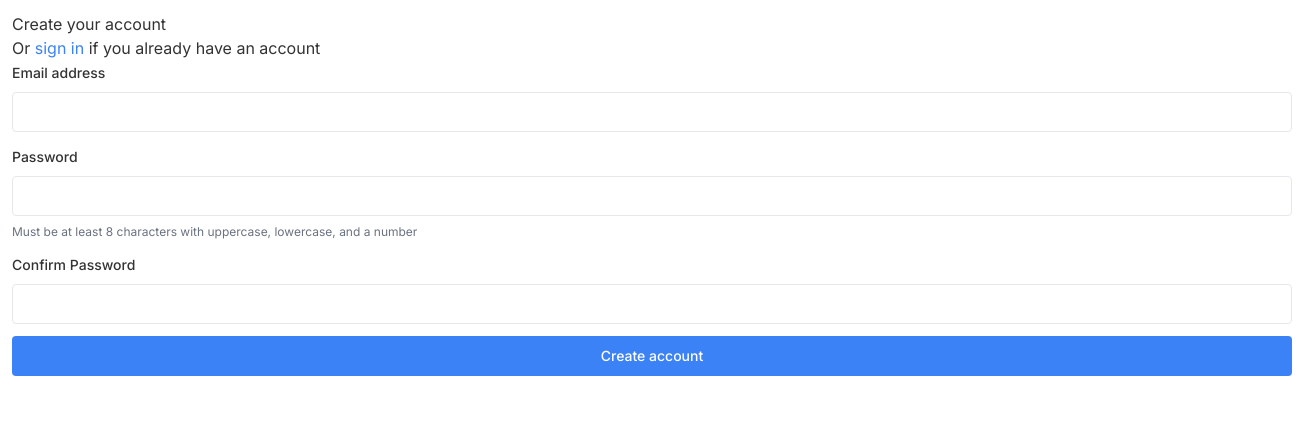
Test: Sign-Up Error Handling › Server-Side Registration Errors › should display error when user already exists (400 status)
The width and height of the screenshot is (1304, 447).
Type "existing@example.com" into the field labelled "Email address" at (652, 112), box [12, 92, 1292, 132]
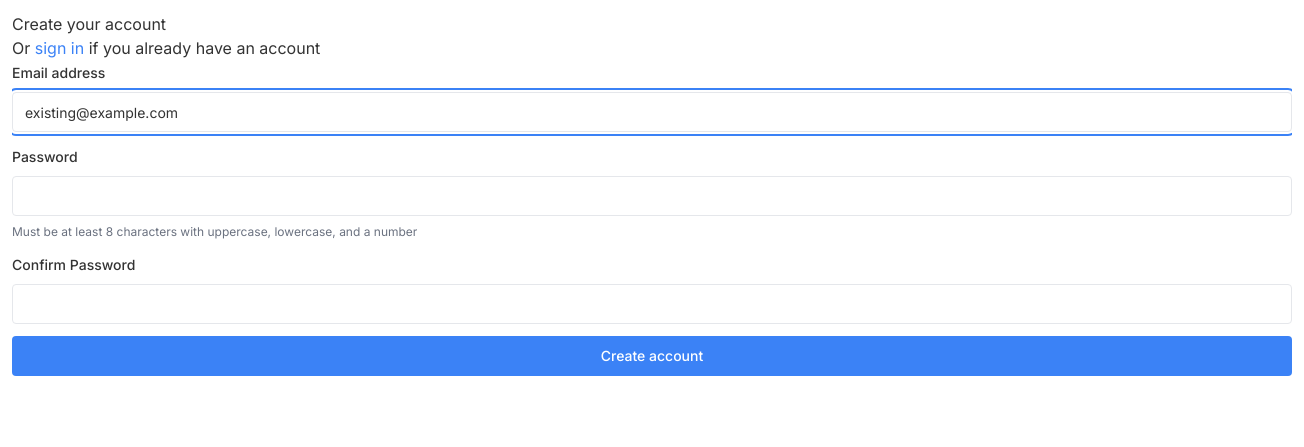
Type "password123" into the password field labelled "Password" at (652, 196), box [12, 176, 1292, 216]
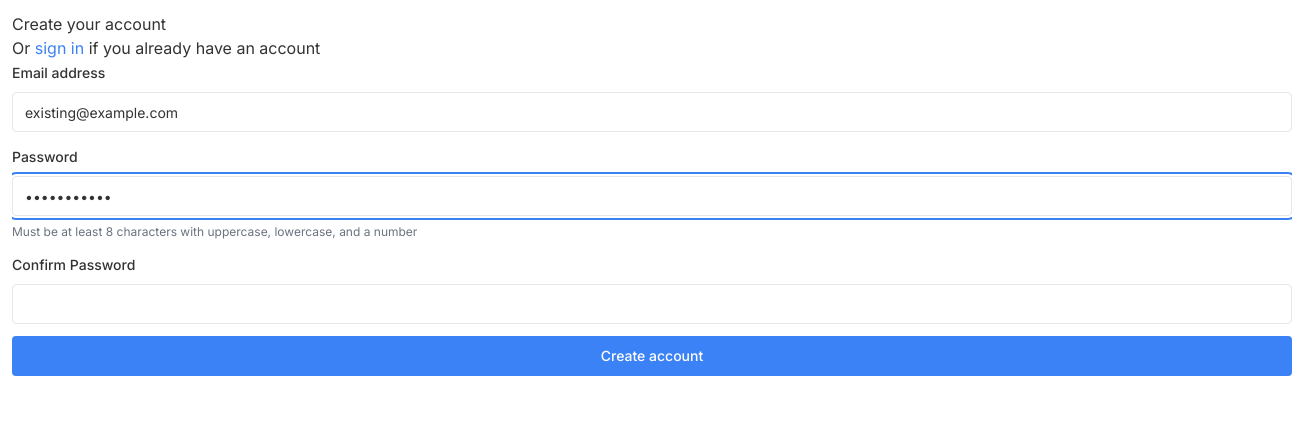
Type "password123" into the password field labelled "Confirm Password" at (652, 304), box [12, 284, 1292, 324]
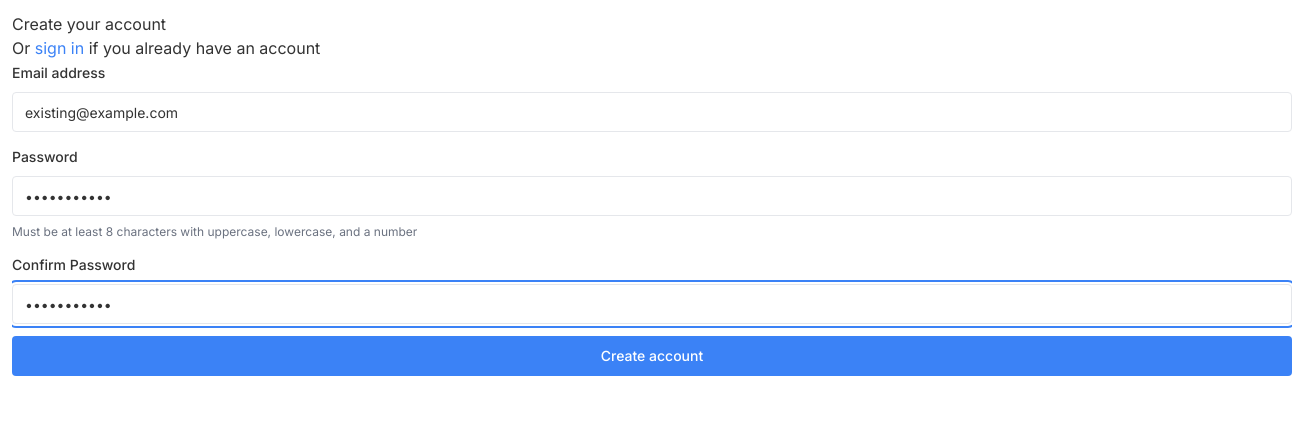
Click the button "Create account" at (652, 356), box [12, 336, 1292, 376]
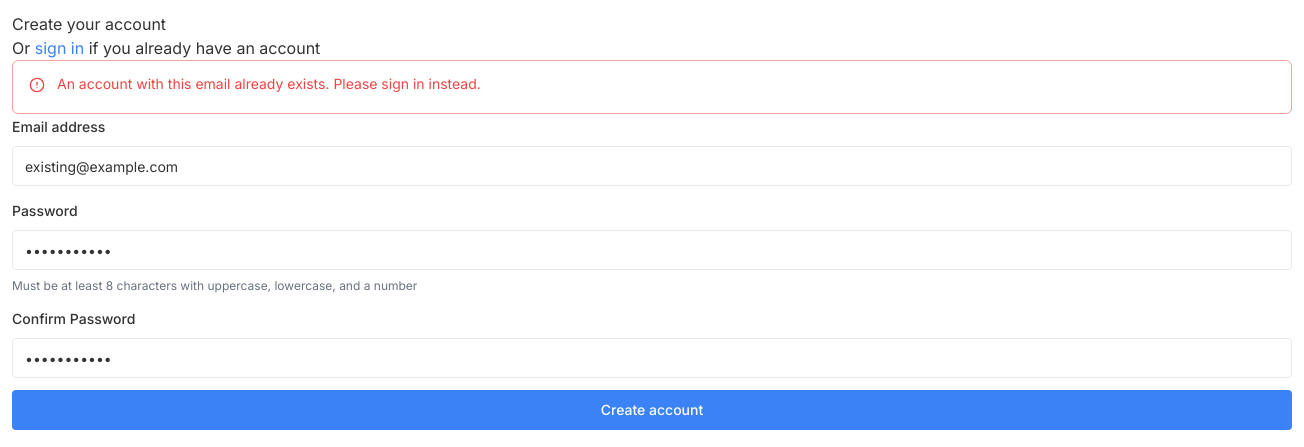
Now the message "An account with this email already exists. Please sign in instead." is shown, box [12, 60, 1292, 114]
Now the text "An account with this email already exists. Please sign in instead." is shown, box [57, 75, 481, 92]
